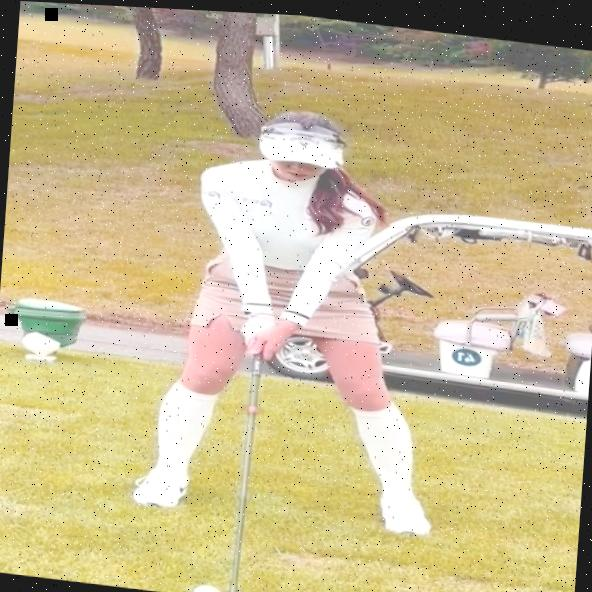ClubHead: (230, 589, 276, 592)
GolfBall: (192, 581, 222, 592)
